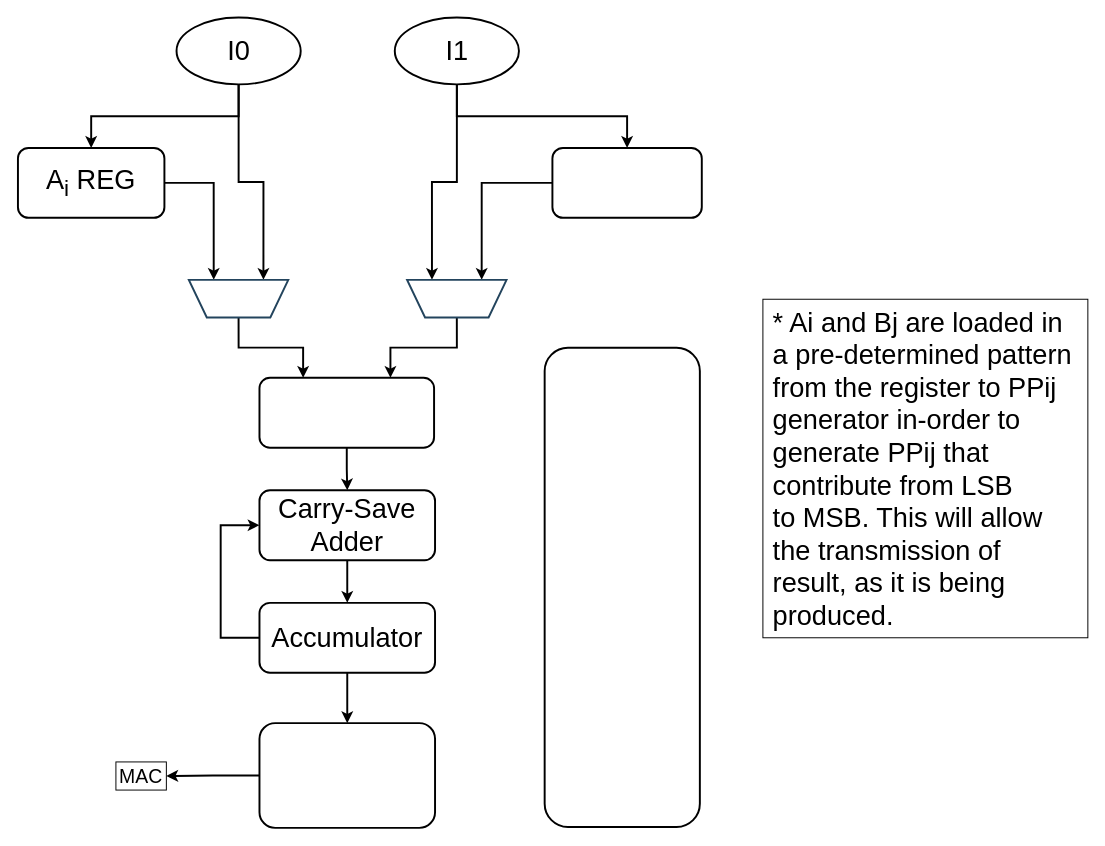
Some shapes in this 1105 by 846 pixel diagram are drawn without their labels. The box of each missing label's shape, as (x1, y1, x2, y2) in pixels:
B j REG: (551, 146, 702, 218)
Baugh-Wooley Multiplier Control Unit: (543, 346, 700, 827)
Carry-Propagate Adder: (258, 722, 436, 828)
Signed PP ij Generator: (258, 376, 435, 448)
